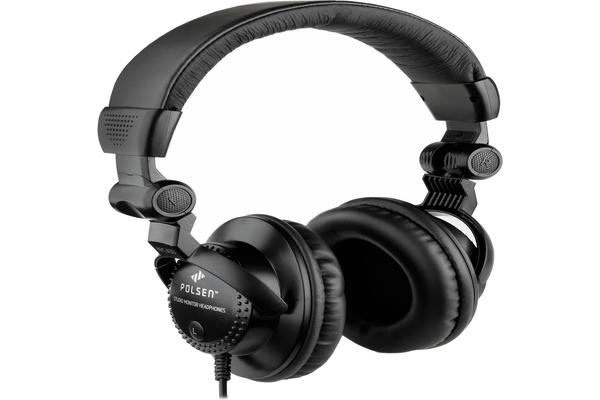headphone: (61, 7, 554, 400)
